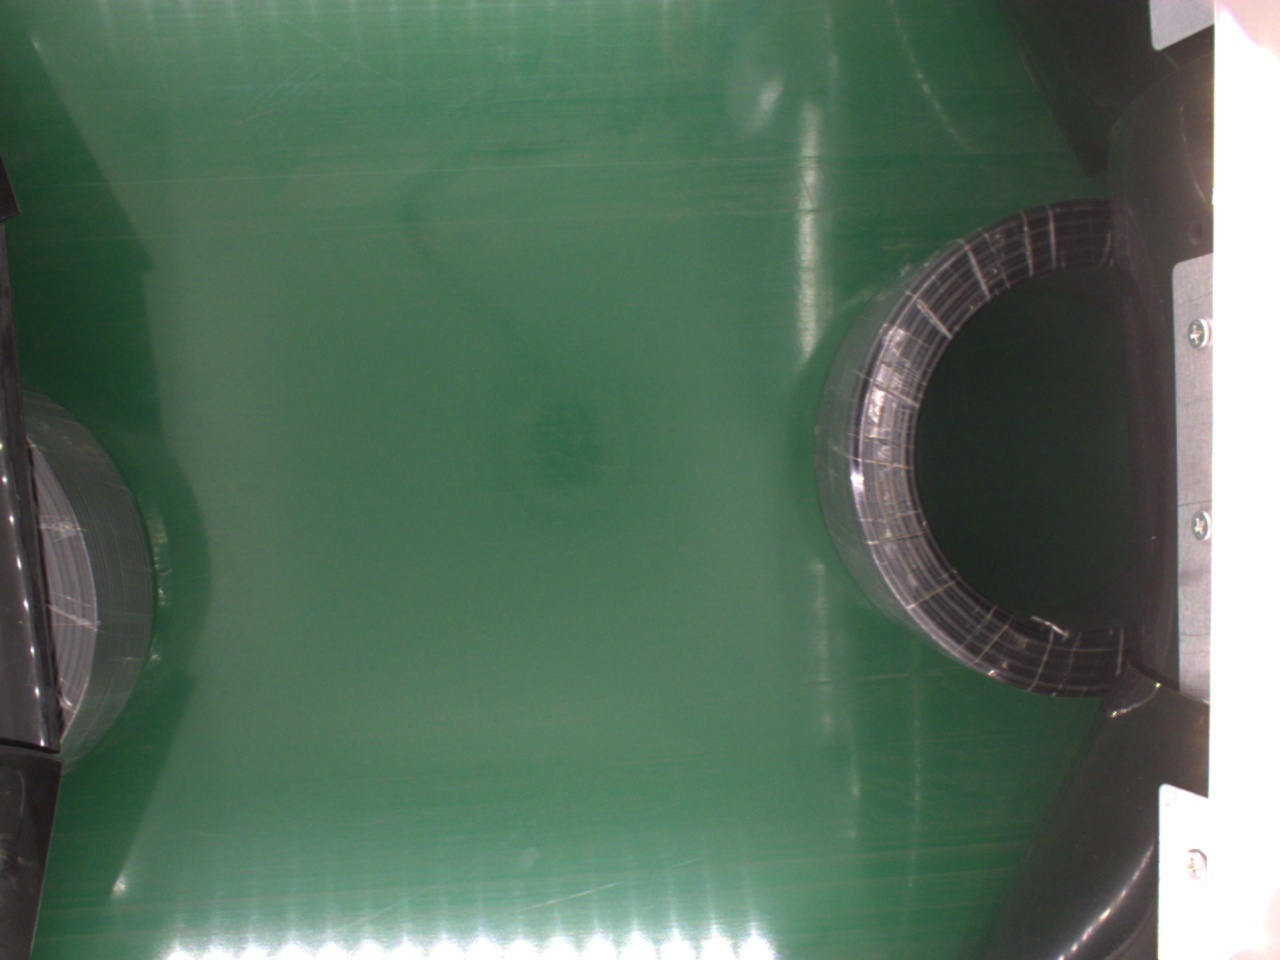black: (823, 196, 1160, 696), (18, 394, 157, 762)
